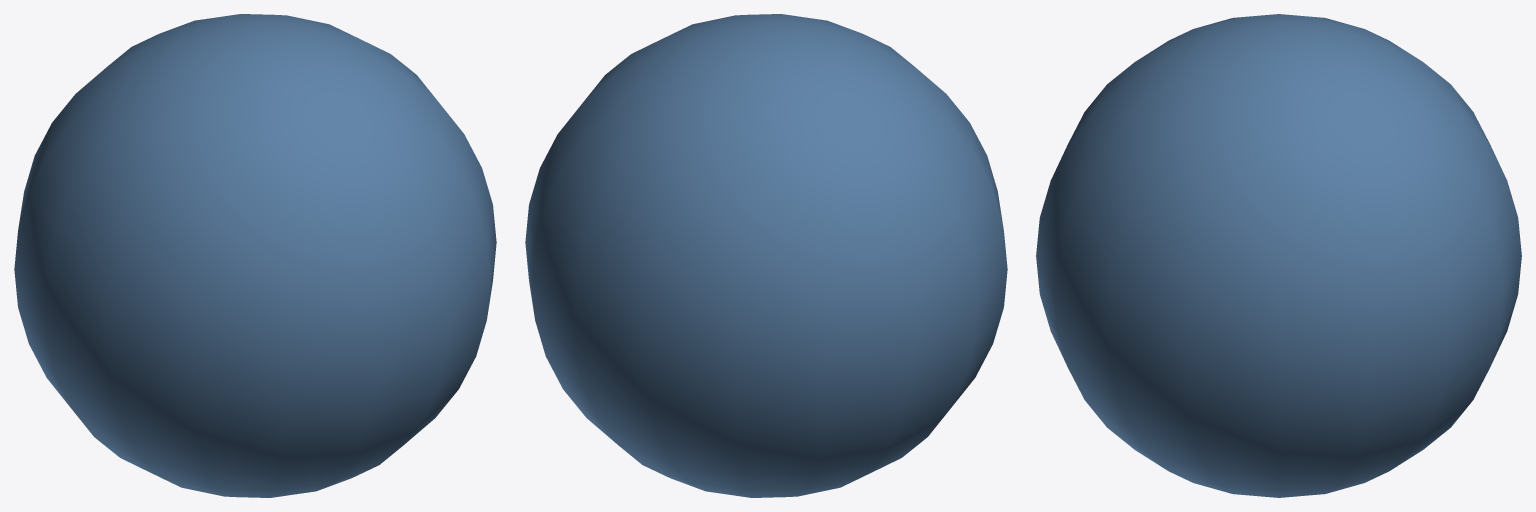
Rendered from P2 Jolen.fbx.
3 renders of one model, left to right at view 1: azimuth 30°, elevation 25°; view 2: azimuth 150°, elevation 25°; view 3: azimuth 270°, elevation 25°, orthographic.
Parts seen in each view (by area): view 1: Marble Red; view 2: Marble Red; view 3: Marble Red.
Part boxes in pixels (left/top/right/bottom): Marble Red: left=14, top=14, right=496, bottom=497; Marble Red: left=525, top=14, right=1007, bottom=497; Marble Red: left=1036, top=14, right=1521, bottom=497.
Size of the model in its own units: 200 by 200 by 200.
